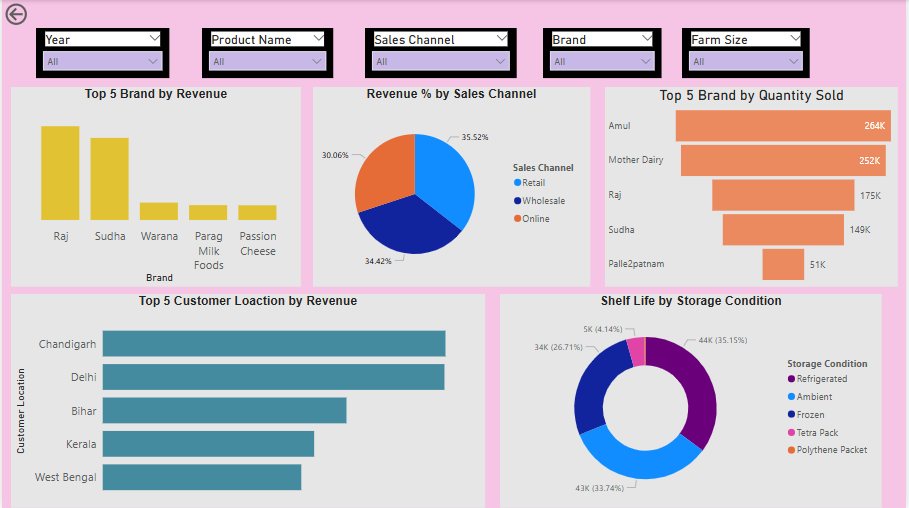

What the dashboard file says about the page in this screenshot:
{"tool":"powerbi","page":{"name":"Page 2","canvas":[1280,720],"ordinal":1},"visuals":[{"type":"pieChart","title":"Revenue % by Sales Channel","fields":{"Category":["dairy_dataset.Sales Channel"],"Y":["Sum(dairy_dataset.Approx. Total Revenue(INR))"]},"box":[440.8,123.3,392.6,283.5],"z":0},{"type":"slicer","fields":{"Values":["dairy_dataset.Product Name"]},"box":[283.7,40.3,185.8,70.6],"z":1000},{"type":"slicer","fields":{"Values":["dairy_dataset.Date - Copy"]},"box":[47.5,40.3,188.6,70.6],"z":2000},{"type":"slicer","fields":{"Values":["dairy_dataset.Sales Channel"]},"box":[514.1,40.3,214.6,70.6],"z":3000},{"type":"slicer","fields":{"Values":["dairy_dataset.Brand"]},"box":[766.1,40.3,168.5,70.6],"z":4000},{"type":"clusteredBarChart","title":"Top 5 Customer Loaction by Revenue","fields":{"Category":["dairy_dataset.Customer Location"],"Y":["Sum(dairy_dataset.Approx. Total Revenue(INR))"]},"box":[12.8,416.7,671.8,303.3],"z":5000},{"type":"donutChart","title":"Shelf Life by Storage Condition","fields":{"Category":["dairy_dataset.Storage Condition"],"Y":["Sum(dairy_dataset.Shelf Life (days))"]},"box":[705.8,416.7,541.4,303.3],"z":6000},{"type":"actionButton","box":[0,0,47.5,40.3],"z":7000},{"type":"slicer","fields":{"Values":["dairy_dataset.Farm Size"]},"box":[963.4,40.3,181.4,70.6],"z":8000},{"type":"lineClusteredColumnComboChart","title":"Top 5 Brand by Revenue","fields":{"Category":["dairy_dataset.Brand"],"Y":["Sum(dairy_dataset.Approx. Total Revenue(INR))"]},"box":[12.8,123.3,411,283.5],"z":9000},{"type":"funnel","title":"Top 5 Brand by Quantity Sold","fields":{"Category":["dairy_dataset.Brand"],"Y":["Sum(dairy_dataset.Quantity Sold (liters/kg))"]},"box":[854.6,123.3,415.3,283.5],"z":10000}]}

Visuals, with their boxes in screenshot pixels (x1, y1, x2, y2), scaled from the page's 1280x720 canvas onto the 909x508 screenshot:
"Revenue % by Sales Channel" pieChart: bbox=[313, 87, 592, 287]
slicer - dairy_dataset.Product Name: bbox=[201, 28, 333, 78]
slicer - dairy_dataset.Date - Copy: bbox=[34, 28, 168, 78]
slicer - dairy_dataset.Sales Channel: bbox=[365, 28, 517, 78]
slicer - dairy_dataset.Brand: bbox=[544, 28, 664, 78]
"Top 5 Customer Loaction by Revenue" clusteredBarChart: bbox=[9, 294, 486, 507]
"Shelf Life by Storage Condition" donutChart: bbox=[501, 294, 886, 507]
actionButton: bbox=[0, 0, 34, 28]
slicer - dairy_dataset.Farm Size: bbox=[684, 28, 813, 78]
"Top 5 Brand by Revenue" lineClusteredColumnComboChart: bbox=[9, 87, 301, 287]
"Top 5 Brand by Quantity Sold" funnel: bbox=[607, 87, 902, 287]
